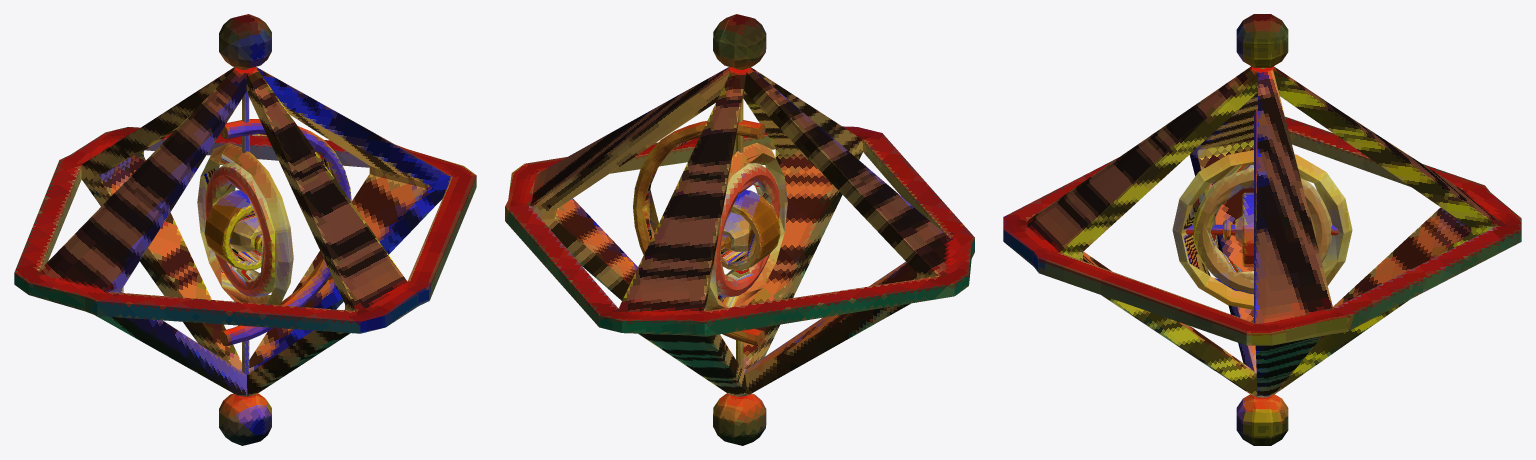
The model's file is item_anti_gravity_grenade.glb.
The picture shows the model from 3 angles, left to right: view 1: azimuth 30°, elevation 25°; view 2: azimuth 150°, elevation 25°; view 3: azimuth 270°, elevation 25°; orthographic projection.
Visible parts, largest first — view 1: Base, MainRing, Ring2, Ring3, Ring1; view 2: Base, MainRing, Ring3, Ring1, Ring2; view 3: Base, MainRing, Ring2, Ring3, Ring1.
Part boxes in pixels (left/top/right/bottom): Base: left=14, top=67, right=476, bottom=396; MainRing: left=197, top=14, right=293, bottom=445; Ring2: left=205, top=162, right=274, bottom=297; Ring3: left=204, top=190, right=262, bottom=270; Ring1: left=219, top=119, right=351, bottom=346; Base: left=505, top=67, right=974, bottom=396; MainRing: left=706, top=14, right=787, bottom=445; Ring3: left=720, top=190, right=780, bottom=270; Ring1: left=633, top=120, right=765, bottom=346; Ring2: left=714, top=163, right=779, bottom=297; Base: left=1003, top=66, right=1521, bottom=397; MainRing: left=1172, top=14, right=1352, bottom=445; Ring2: left=1192, top=167, right=1332, bottom=294; Ring3: left=1185, top=192, right=1339, bottom=267; Ring1: left=1254, top=109, right=1257, bottom=322.
Bounding box in the file's own units: 0.2091 × 0.189 × 0.2091.
1 material, 1 textured.
